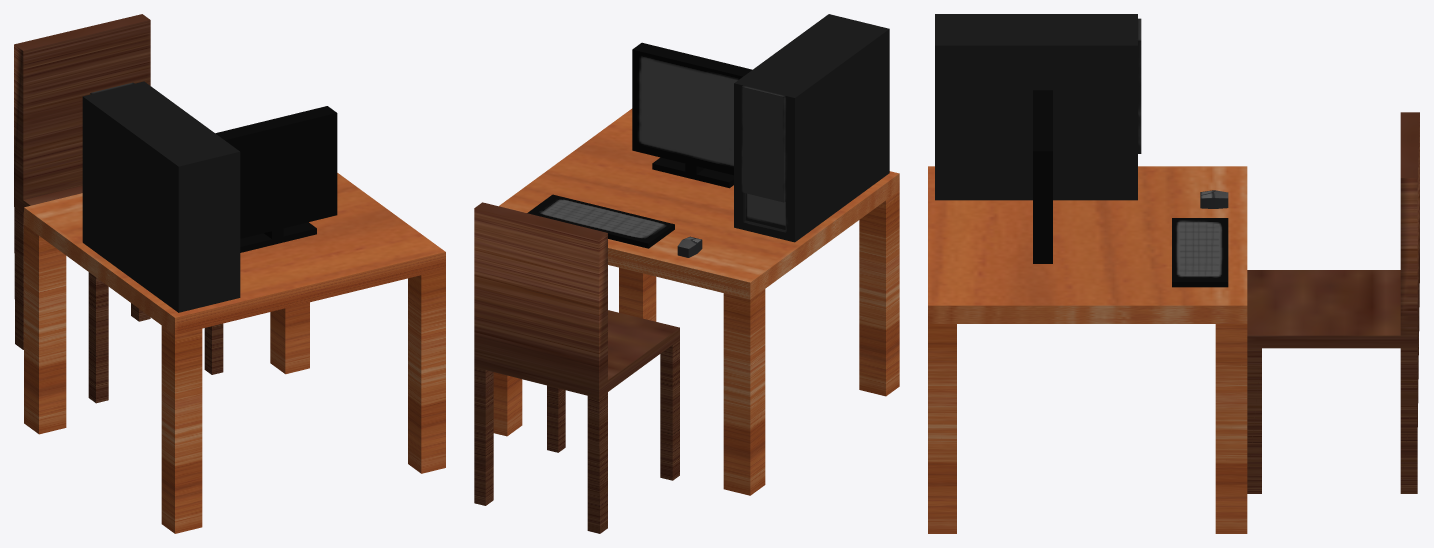
The model's file is Computer.fbx.
The picture shows the model from 3 angles, left to right: view 1: azimuth 30°, elevation 25°; view 2: azimuth 150°, elevation 25°; view 3: azimuth 270°, elevation 25°; orthographic projection. The views are drawn at different scales.
Parts seen in each view (by area): view 1: Table, CPU, Chair, Monitor; view 2: Table, Chair, CPU, Monitor, Keyboard; view 3: Table, CPU, Chair, Keyboard, Monitor.
Boxes of the visible parts, x1,y1,x2,y2 form: Table: [24, 173, 445, 533]; CPU: [82, 81, 240, 312]; Chair: [14, 14, 223, 403]; Monitor: [215, 106, 337, 252]; Table: [493, 108, 899, 495]; Chair: [474, 202, 679, 533]; CPU: [734, 14, 889, 242]; Monitor: [632, 42, 752, 188]; Keyboard: [527, 194, 674, 248]; Table: [928, 166, 1247, 533]; CPU: [935, 14, 1141, 200]; Chair: [1247, 112, 1419, 493]; Keyboard: [1172, 218, 1228, 287]; Monitor: [1033, 90, 1052, 263].
Bounding box in the file's own units: 5.86 × 7.51 × 8.72.
